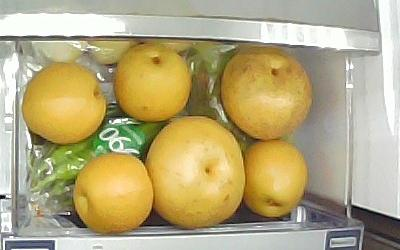pear: (146, 117, 245, 230), (221, 46, 311, 142), (22, 62, 105, 145), (72, 153, 155, 233), (113, 43, 192, 122), (242, 140, 309, 217)
